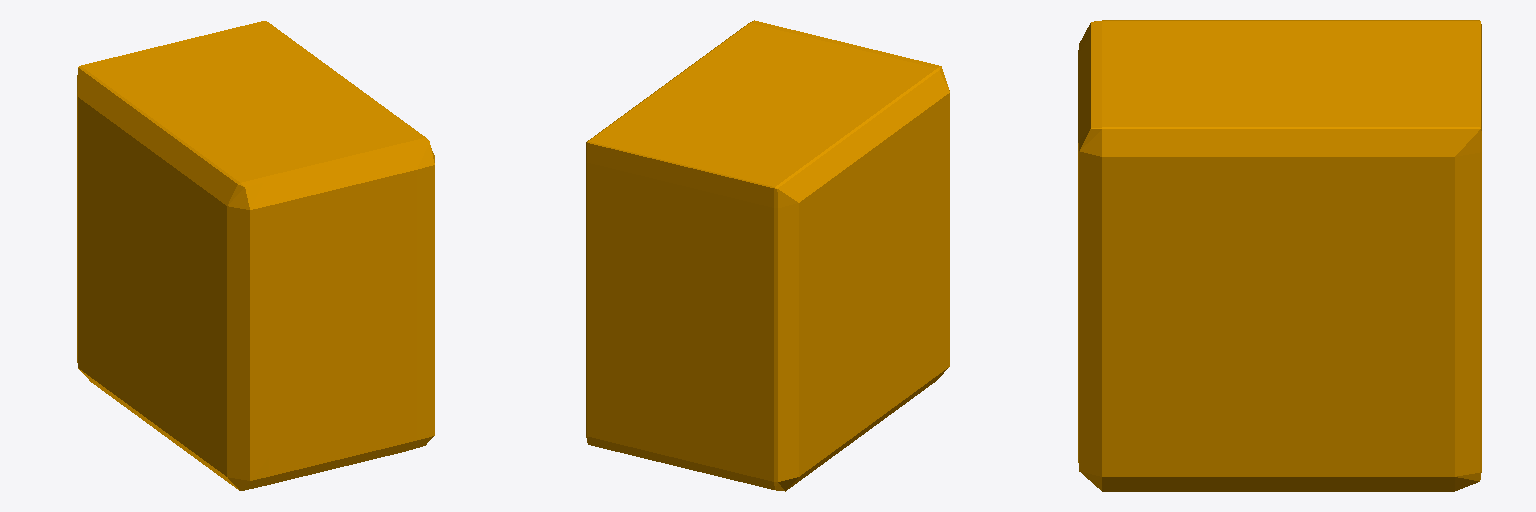
URDF robot description (cylinder_box_165):
<?xml version="1.0" encoding="utf-8"?>  <robot name="cylinder_box_165">   <link name="cylinder_box_165">     <visual>       <geometry>         <mesh filename="../meshes/box/box_165.stl" scale="1 1 1"/>       </geometry>     </visual>     <collision>       <geometry>         <mesh filename="../meshes/box/box_165.stl" scale="1 1 1"/>       </geometry>     </collision>     <inertial>        <origin         xyz="0 0 0"         rpy="0 0 0" />       <mass value="0.3528798249745613"/>       <origin rpy="0 0 0" xyz="0 0 0"/>       <inertia ixx="0.00036920718591157436" ixy="-1.7496579484774286e-08" ixz="-1.9237192302665535e-08" iyy="0.000274956159217013" iyz="-2.645598835052606e-07" izz="0.00027550523951134224"/>     </inertial>   </link>  </robot>

--- Facts derived from the render (not from the file) ---
The picture shows the robot from 3 angles, left to right: view 1: azimuth 30°, elevation 25°; view 2: azimuth 150°, elevation 25°; view 3: azimuth 270°, elevation 25°; orthographic projection.
Robot: cylinder_box_165 — 1 links, 0 joints (none); root link cylinder_box_165; default pose: all joints at 0.
Visible links, largest first — view 1: cylinder_box_165; view 2: cylinder_box_165; view 3: cylinder_box_165.
Link boxes in pixels (bbox=[...]): cylinder_box_165: bbox=[77, 21, 434, 490]; cylinder_box_165: bbox=[586, 20, 949, 491]; cylinder_box_165: bbox=[1078, 20, 1481, 491].
Size in the robot's own frame: 0.0561 by 0.08 by 0.0799 metres.
Meshes: 1 distinct files referenced, 1 mesh visuals loaded (1 binary STL).